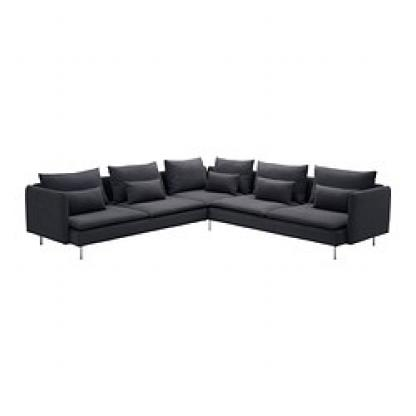Sofa: (15, 130, 396, 293)
